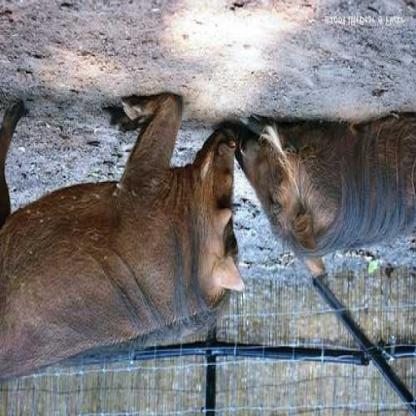boar: (0, 73, 236, 391), (236, 92, 415, 282)
